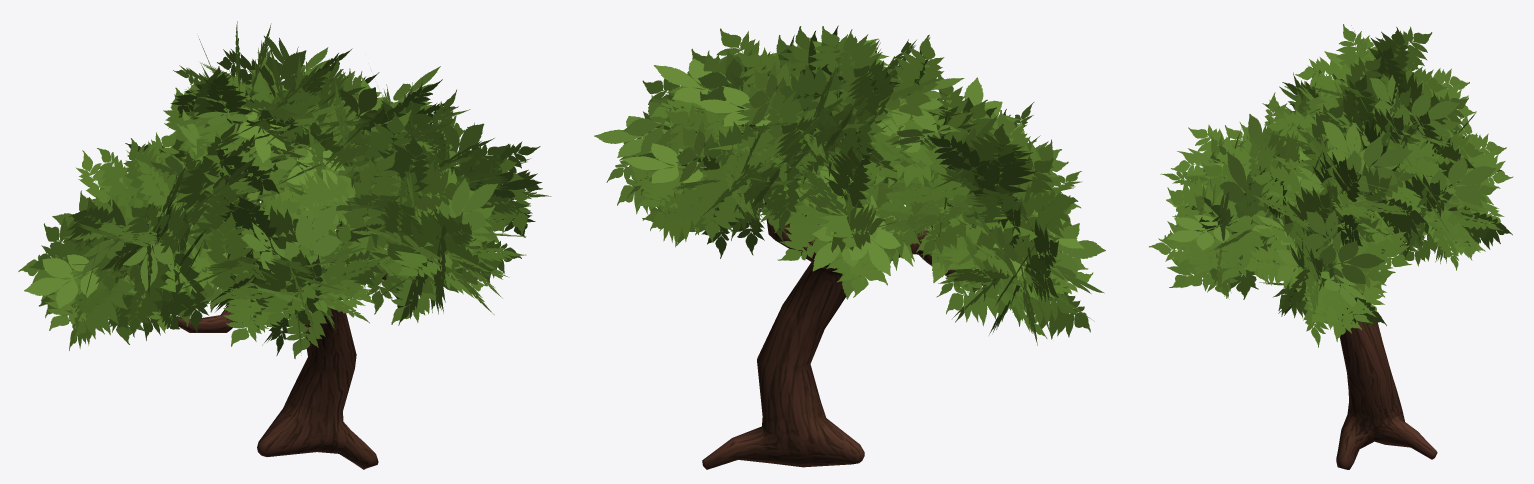
The model's file is SM_Common_Tree_07.glb.
3 renders of one model, left to right at view 1: azimuth 30°, elevation 25°; view 2: azimuth 150°, elevation 25°; view 3: azimuth 270°, elevation 25°, orthographic. The views are drawn at different scales.
Visible parts, largest first — view 1: SM_Common_Tree_07; view 2: SM_Common_Tree_07; view 3: SM_Common_Tree_07.
Part boxes in pixels (x1,y1,x2,y2): SM_Common_Tree_07: (18, 21, 551, 469); SM_Common_Tree_07: (594, 25, 1105, 469); SM_Common_Tree_07: (1149, 24, 1513, 469).
Bounding box in the file's own units: 8.93 × 7.72 × 6.52.
2 materials, 2 textured.
